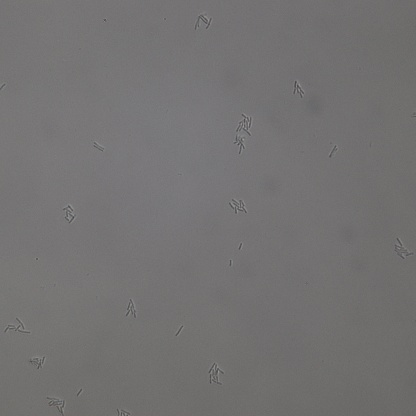R(colony): (234, 110, 257, 136), (392, 237, 414, 260), (3, 317, 30, 335), (45, 395, 66, 415), (226, 197, 248, 215), (207, 363, 225, 385), (61, 203, 78, 224), (122, 297, 139, 317), (232, 135, 248, 154), (195, 13, 213, 29), (28, 355, 46, 371), (292, 81, 306, 97), (91, 141, 104, 152)
